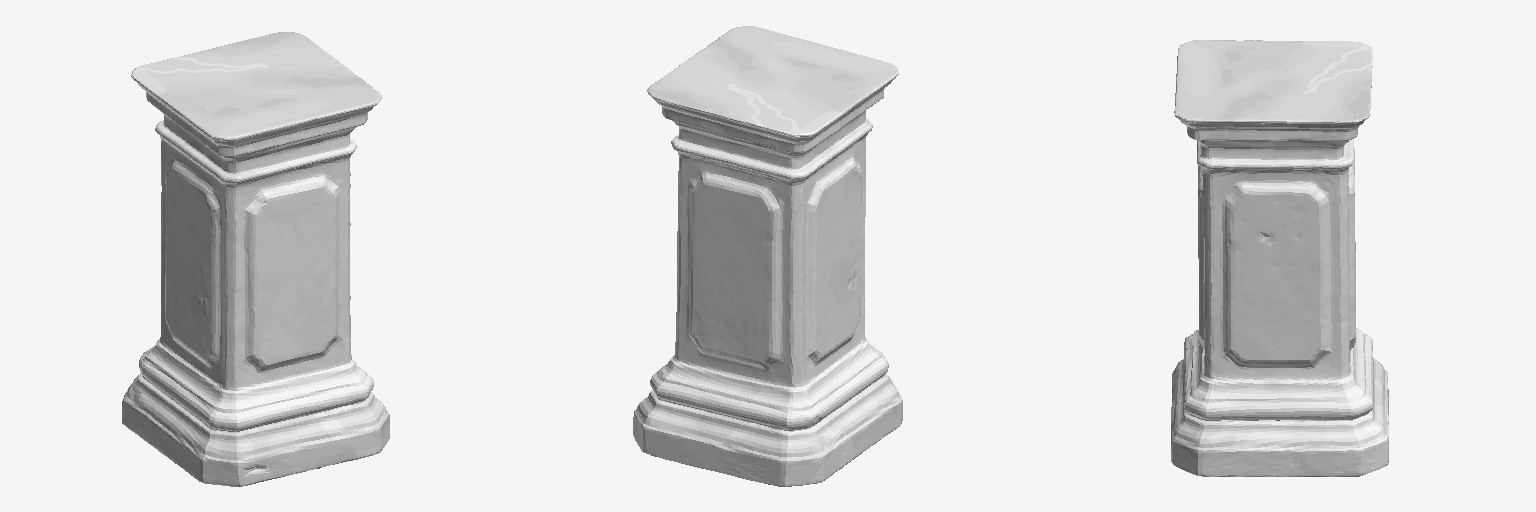
3 views of the same model, side by side, from view 1: azimuth 30°, elevation 25°; view 2: azimuth 150°, elevation 25°; view 3: azimuth 270°, elevation 25° (orthographic).
Parts seen in each view (by area): view 1: CLASSIC_COLUMN; view 2: CLASSIC_COLUMN; view 3: CLASSIC_COLUMN.
Part boxes in pixels (bbox=[...]): CLASSIC_COLUMN: bbox=[122, 32, 389, 486]; CLASSIC_COLUMN: bbox=[633, 26, 902, 486]; CLASSIC_COLUMN: bbox=[1171, 40, 1388, 476].
Bounding box in the file's own units: 17.52 × 31.02 × 17.47.
1 materials, 1 textured.